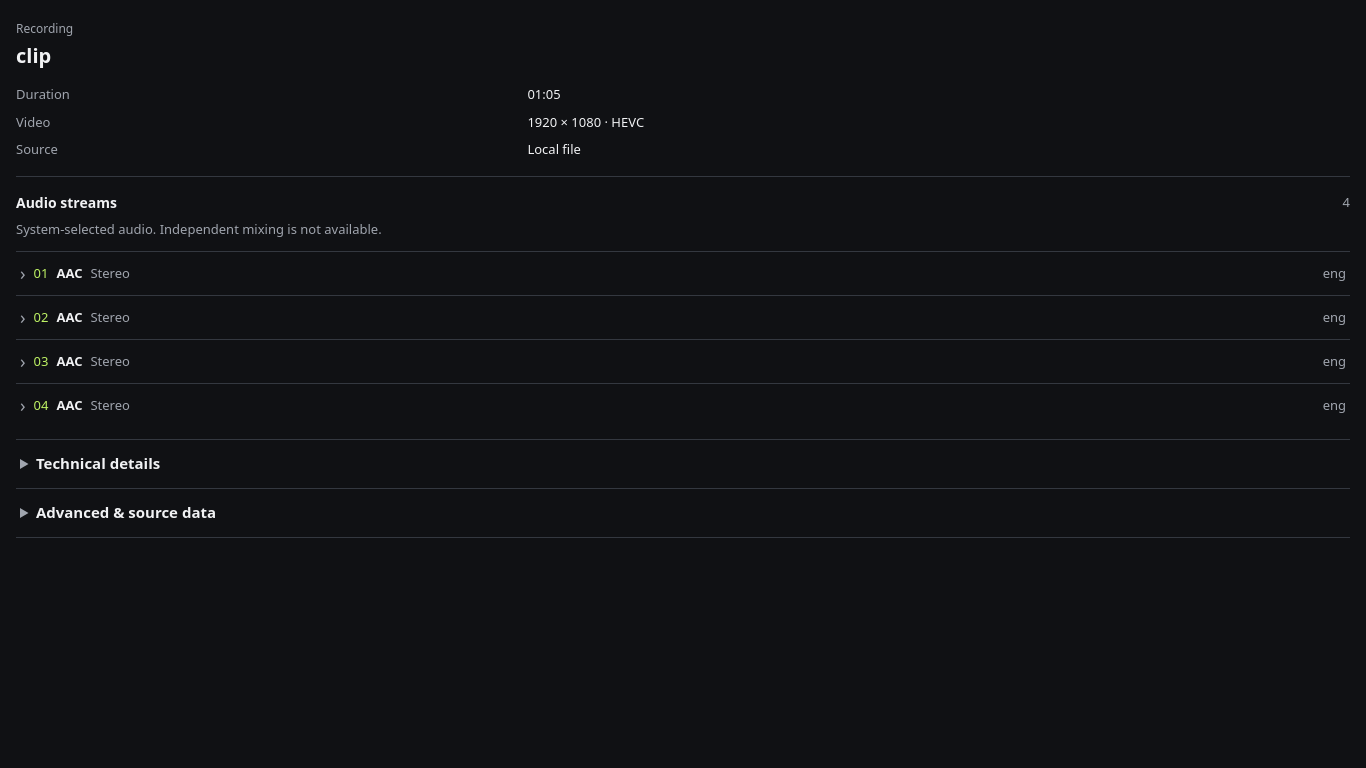
it: keeps plain recordings useful without inventing a game, provider dates or a Medal section
Check: the heading "clip" is shown, box [16, 42, 51, 69]
Check: the header shows "Local file", box [527, 140, 581, 158]
Click the heading "Technical details".
click(98, 463)  # box [36, 453, 160, 473]
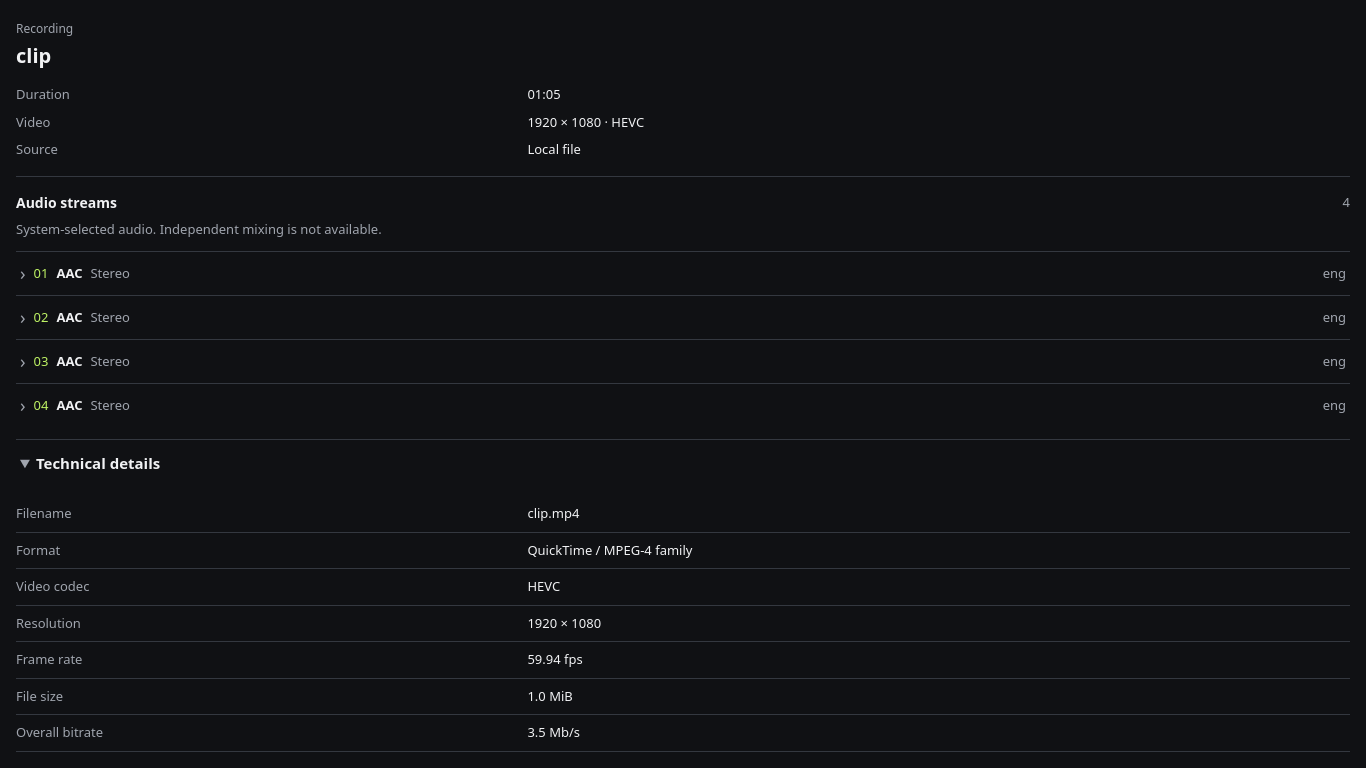
Check: the text "1.0 MiB" is shown, box [527, 686, 573, 704]
Check: the text "clip.mp4" is shown, box [527, 504, 579, 522]
